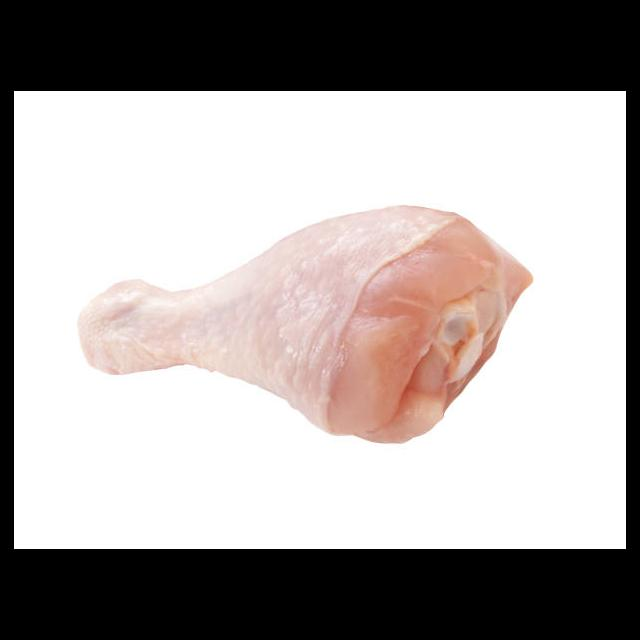chicken: (75, 203, 535, 446)
